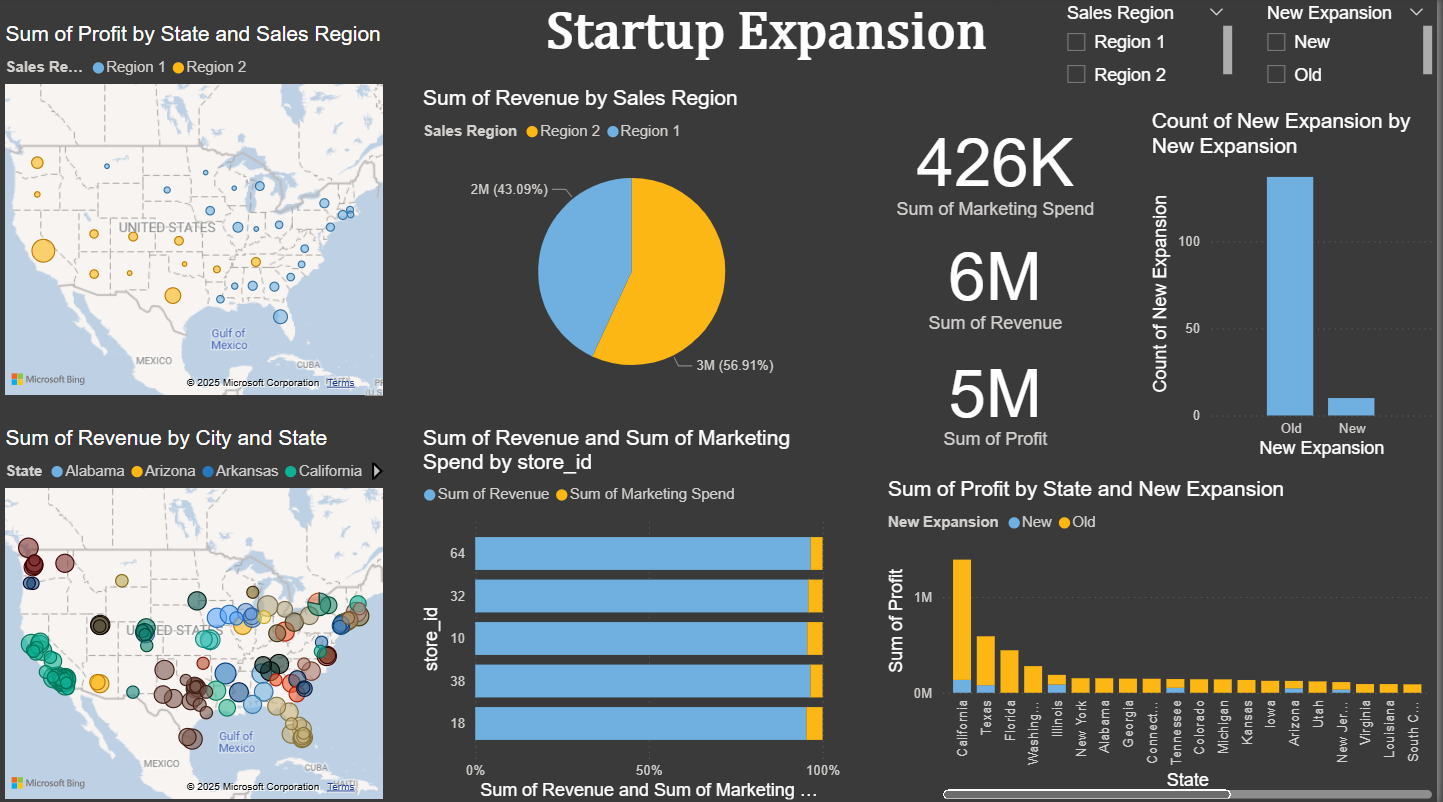

The dashboard page shown, as its layout file describes it:
{"tool":"powerbi","page":{"name":"Overview","canvas":[1280,720],"ordinal":0},"visuals":[{"type":"textbox","box":[480.6,0,406.9,69.4],"z":0},{"type":"map","fields":{"Category":["startup-modified.State"],"Size":["Sum(startup-modified.Profit)"],"Series":["startup-modified.Sales Region"]},"box":[0,22.2,345.8,337.5],"z":1000},{"type":"map","fields":{"Category":["startup-modified.City"],"Size":["Sum(startup-modified.Revenue)"],"Series":["startup-modified.State"]},"box":[0,381.9,345.8,337.5],"z":2000},{"type":"columnChart","fields":{"Category":["startup-modified.New Expansion"],"Y":["CountNonNull(startup-modified.New Expansion)"]},"box":[1020.8,100,259.7,315.3],"z":3000},{"type":"pieChart","fields":{"Category":["startup-modified.Sales Region"],"Y":["Sum(startup-modified.Revenue)"]},"box":[372.2,79.2,381.9,280.6],"z":4000},{"type":"card","fields":{"Values":["Sum(startup-modified.Profit)"]},"box":[786.1,304.2,201.4,105.6],"z":5000},{"type":"card","fields":{"Values":["Sum(startup-modified.Revenue)"]},"box":[786.1,201.4,201.4,102.8],"z":6000},{"type":"card","fields":{"Values":["Sum(startup-modified.Marketing Spend)"]},"box":[786.1,101.4,201.4,100],"z":7000},{"type":"columnChart","fields":{"Y":["Sum(startup-modified.Profit)"],"Category":["startup-modified.State"],"Series":["startup-modified.New Expansion"]},"box":[786.1,427.8,494.4,291.7],"z":8000},{"type":"slicer","fields":{"Values":["startup-modified.Sales Region"]},"box":[937.5,0,165.3,86.1],"z":9000},{"type":"slicer","fields":{"Values":["startup-modified.New Expansion"]},"box":[1115.3,0,165.3,86.1],"z":10000},{"type":"hundredPercentStackedBarChart","fields":{"Category":["startup-modified.store_id"],"Y":["Sum(startup-modified.Revenue)","Sum(startup-modified.Marketing Spend)"]},"box":[372.2,381.9,381.9,337.5],"z":11000}]}

Visuals, with their boxes in screenshot pixels (x1, y1, x2, y2), scaled from the page's 1280x720 canvas onto the 1443x802 screenshot:
textbox: box(542, 0, 1001, 77)
map - startup-modified.State x Sum(startup-modified.Profit): box(0, 25, 390, 401)
map - startup-modified.City x Sum(startup-modified.Revenue): box(0, 425, 390, 801)
columnChart - startup-modified.New Expansion x CountNonNull(startup-modified.New Expansion): box(1151, 111, 1442, 463)
pieChart - startup-modified.Sales Region x Sum(startup-modified.Revenue): box(420, 88, 850, 401)
card - Sum(startup-modified.Profit): box(886, 339, 1113, 456)
card - Sum(startup-modified.Revenue): box(886, 224, 1113, 339)
card - Sum(startup-modified.Marketing Spend): box(886, 113, 1113, 224)
columnChart - Sum(startup-modified.Profit) x startup-modified.State: box(886, 477, 1442, 801)
slicer - startup-modified.Sales Region: box(1057, 0, 1243, 96)
slicer - startup-modified.New Expansion: box(1257, 0, 1442, 96)
hundredPercentStackedBarChart - startup-modified.store_id x Sum(startup-modified.Revenue): box(420, 425, 850, 801)
